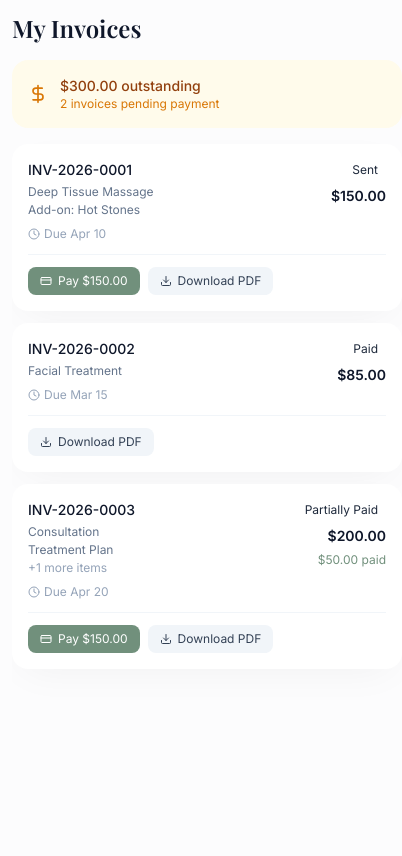
Test: PortalInvoicesPage › shows Processing... state while payment is in progress
Expected: the text "INV-2026-0001" is shown, [28,161,132,178]
Click the button with test id "pay-now-btn" at (84, 281), box [28,267,140,295]
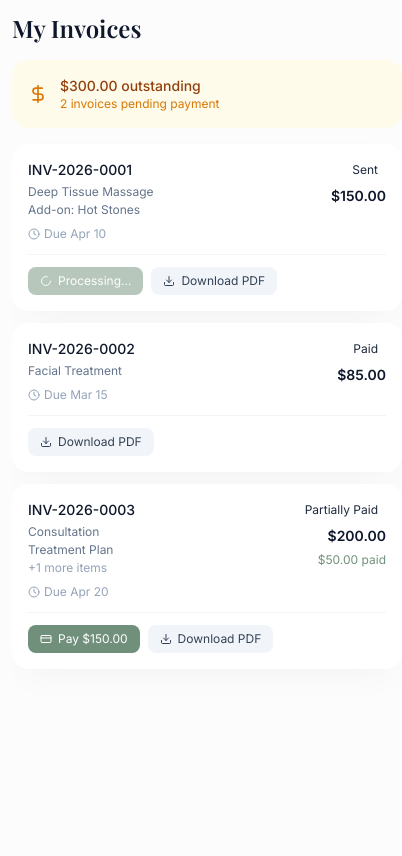
Now the button "Processing..." is shown, box [28,267,143,295]
